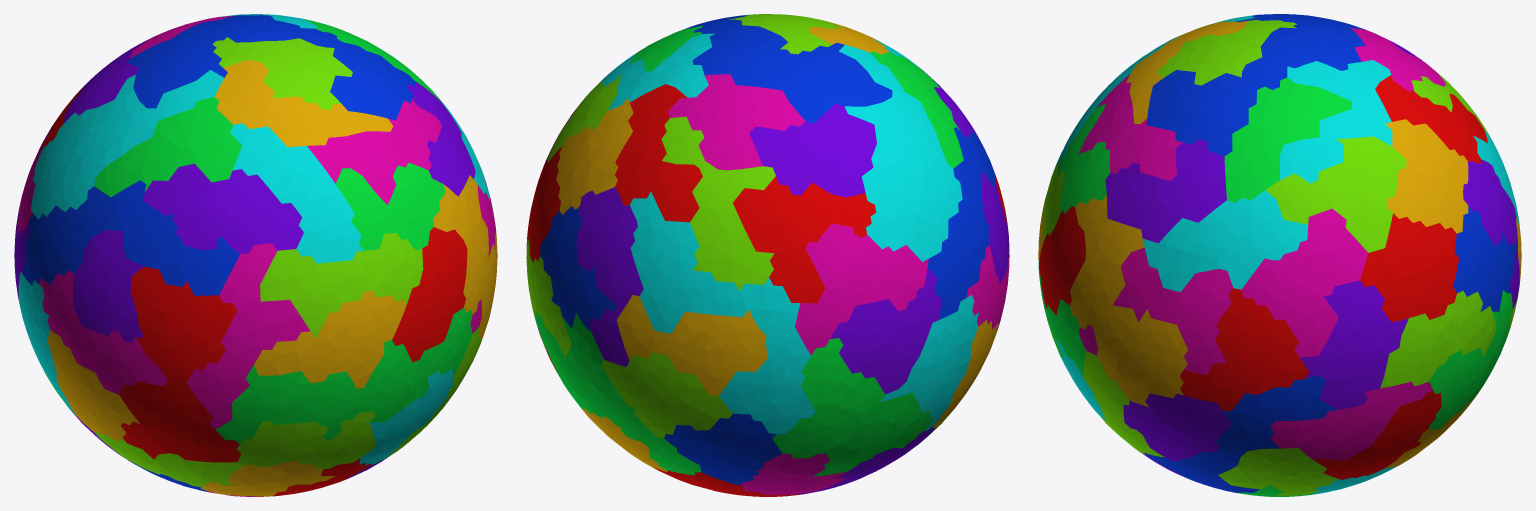
Rendered from SphereH_L1.fbx.
The picture shows the model from 3 angles, left to right: view 1: azimuth 30°, elevation 25°; view 2: azimuth 150°, elevation 25°; view 3: azimuth 270°, elevation 25°; orthographic projection.
Bounding box in the file's own units: 2 × 2 × 2.
